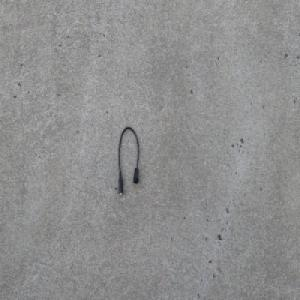Wire: (117, 126, 139, 197)
